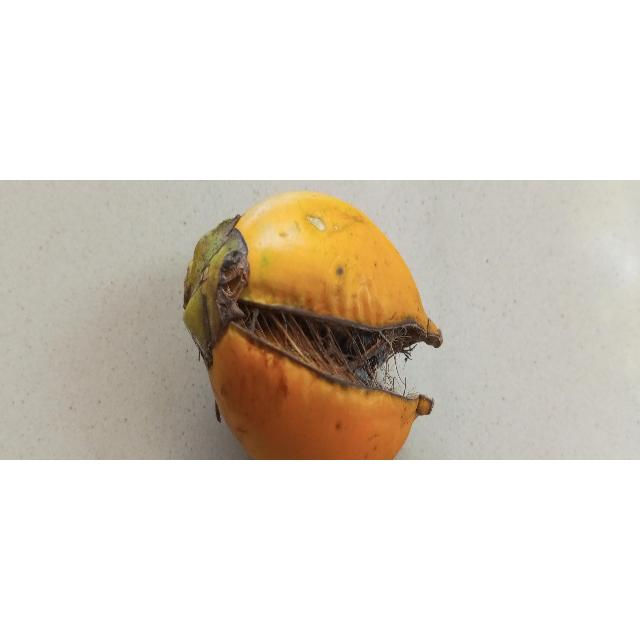damaged: (184, 191, 443, 461)
